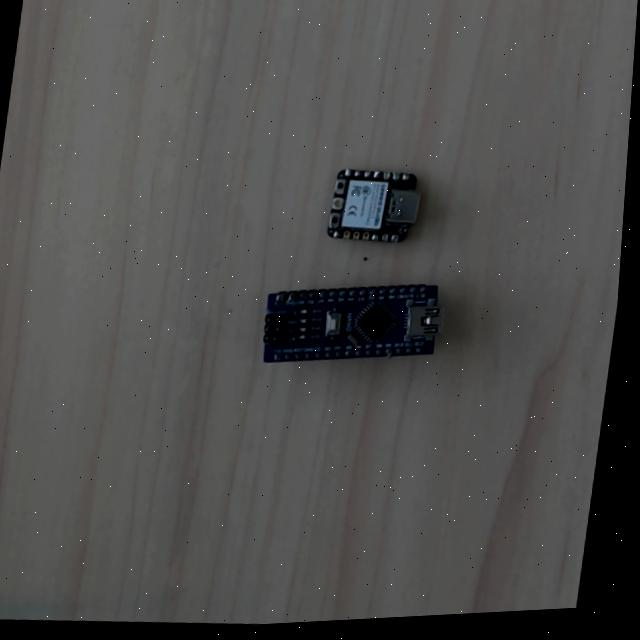Arduino-Nano: (259, 281, 445, 362)
ESP32C3-Xiao: (325, 165, 419, 244)
